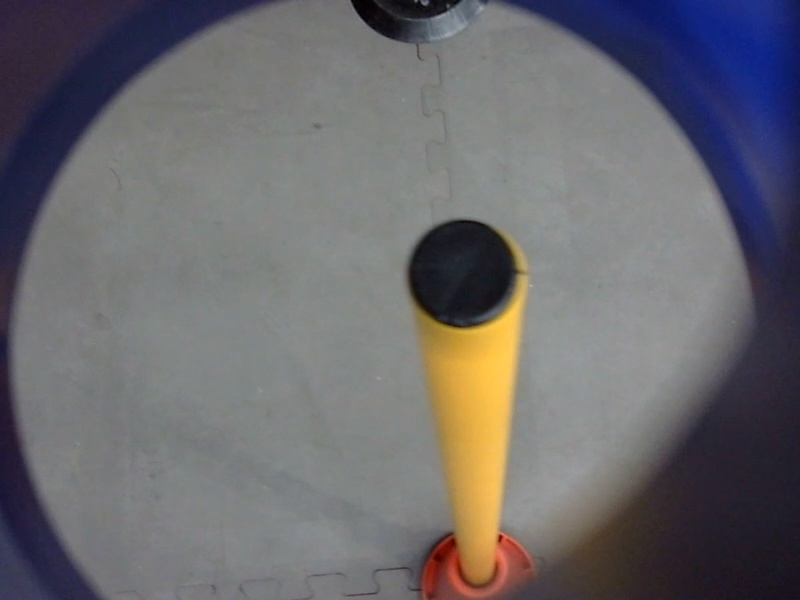tip: (401, 212, 535, 339)
